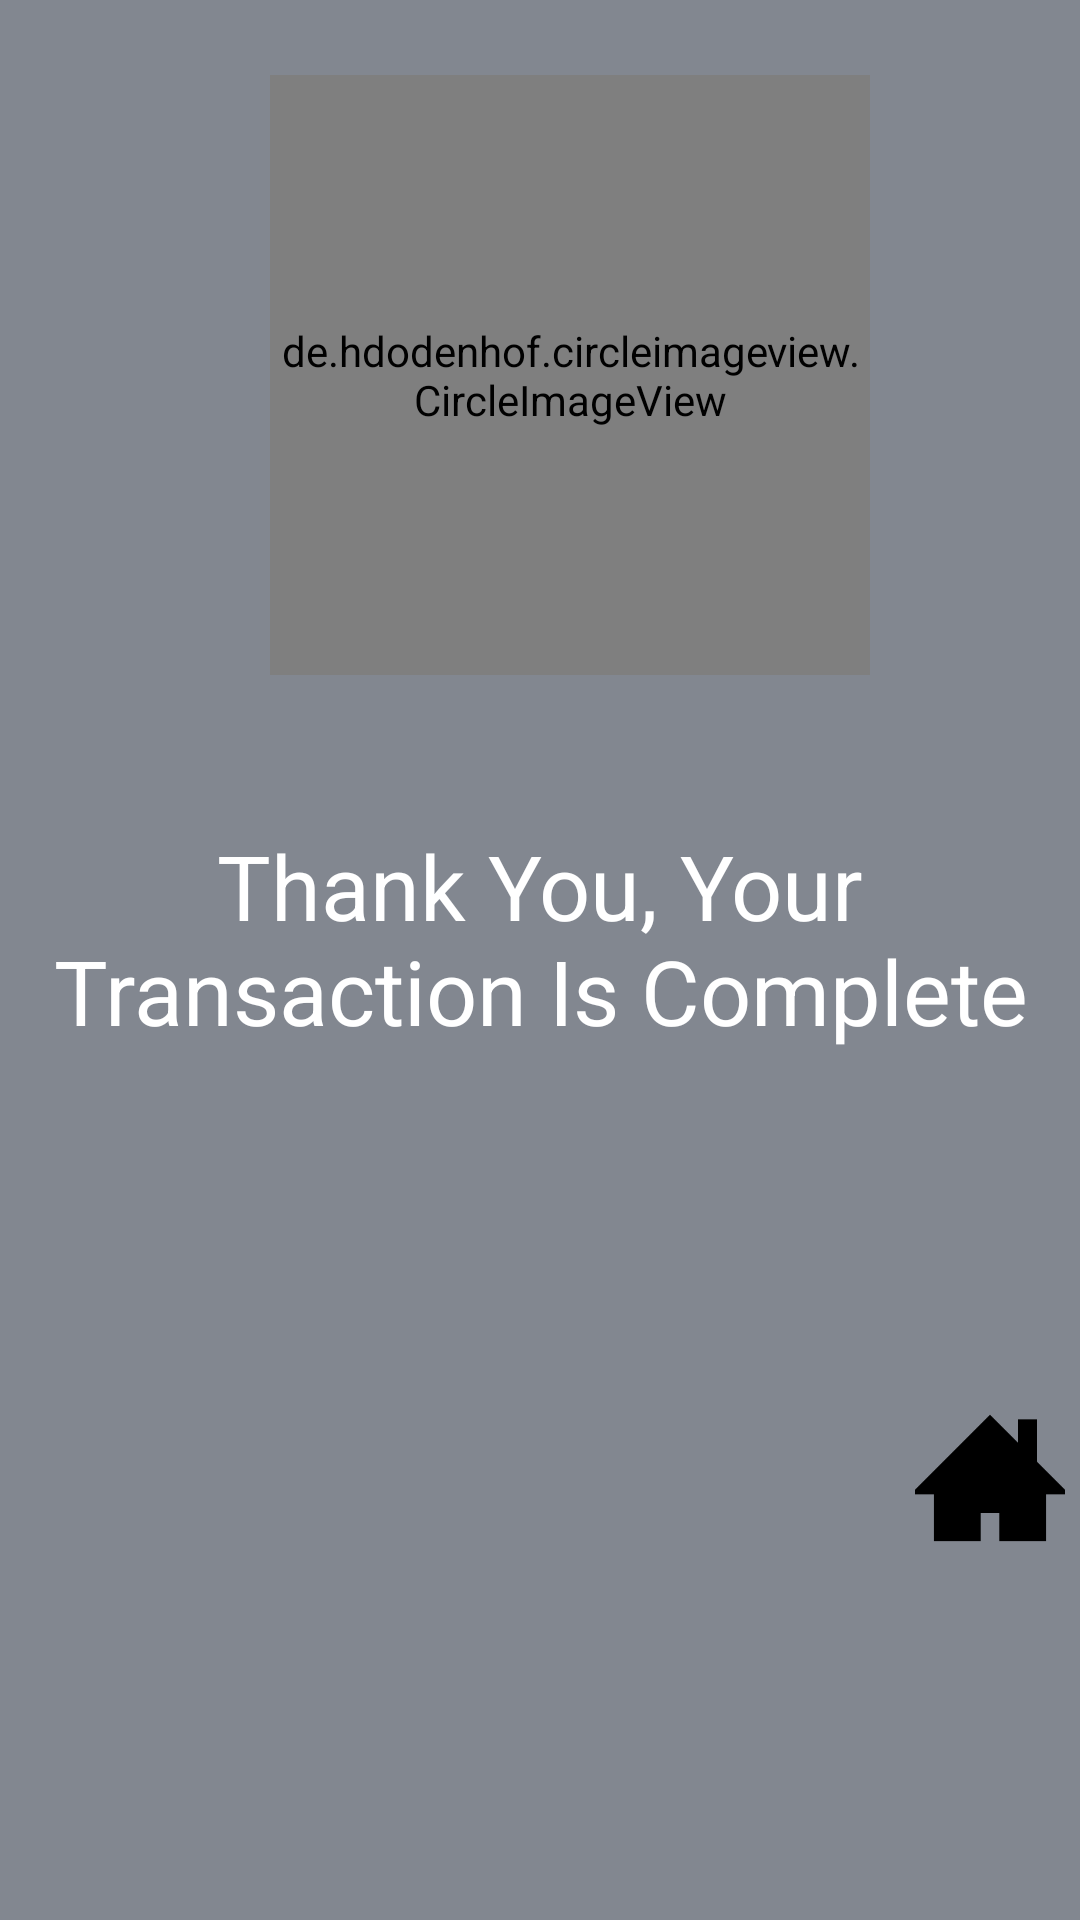

Icons on this 1080x1920 Android screen, each with the point to tap as [x,y]:
home: [990,1478]
